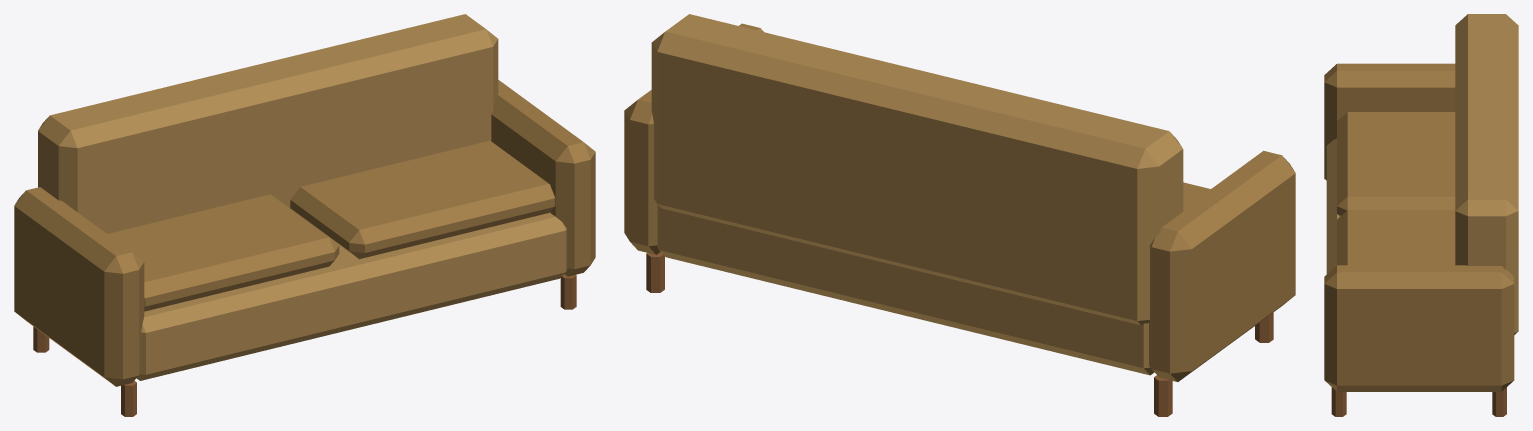
Rendered from sofa.glb.
The picture shows the model from 3 angles, left to right: view 1: azimuth 30°, elevation 25°; view 2: azimuth 150°, elevation 25°; view 3: azimuth 270°, elevation 25°; orthographic projection. The views are drawn at different scales.
Parts seen in each view (by area): view 1: sofa; view 2: sofa; view 3: sofa.
Boxes of the visible parts, left/top/right/bottom form: sofa: left=14, top=14, right=595, bottom=416; sofa: left=624, top=14, right=1295, bottom=416; sofa: left=1324, top=14, right=1518, bottom=416.
Size of the model in its own units: 2.46 by 1.1 by 0.92.
